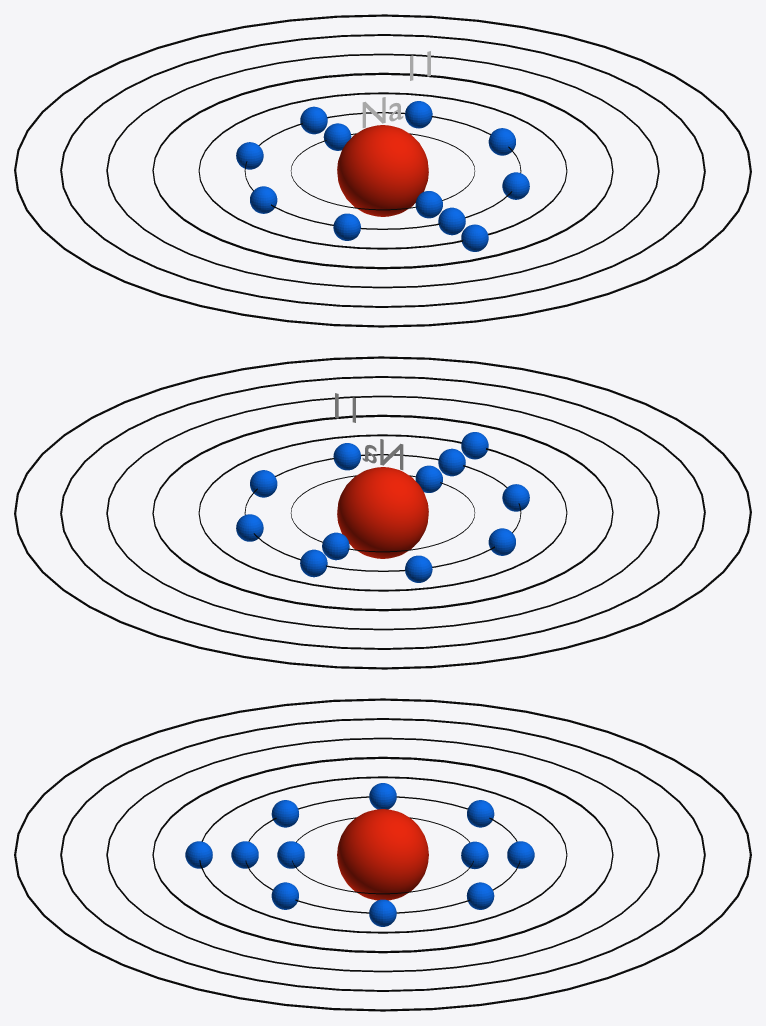
3 views of the same model, one above another, from view 1: azimuth 30°, elevation 25°; view 2: azimuth 150°, elevation 25°; view 3: azimuth 270°, elevation 25° (orthographic).
Visible parts, largest first — view 1: Proton, Na2, n7, n6, n5, n4, n3, Na, n2, Na3; view 2: Proton, Na2, n7, n6, n5, n4, n3, Na, n2, Na3; view 3: Proton, Na2, n7, n6, n5, n4, n3, Na, n2, Na3, n1.
Boxes of the visible parts, box(x1,y1,x2,y2) form: Proton: box(337, 125, 428, 216); Na2: box(236, 101, 529, 240); n7: box(14, 14, 751, 327); n6: box(60, 34, 705, 307); n5: box(106, 53, 659, 288); n4: box(152, 72, 613, 269); n3: box(198, 92, 567, 249); Na: box(323, 123, 442, 218); n2: box(244, 112, 521, 229); Na3: box(461, 224, 488, 251); Proton: box(337, 467, 428, 558); Na2: box(236, 443, 529, 582); n7: box(14, 356, 751, 669); n6: box(60, 376, 705, 649); n5: box(106, 395, 659, 630); n4: box(152, 414, 613, 611); n3: box(198, 434, 567, 591); Na: box(322, 465, 442, 560); n2: box(244, 454, 521, 571); Na3: box(461, 432, 488, 459); Proton: box(337, 809, 428, 900); Na2: box(231, 783, 534, 926); n7: box(14, 698, 751, 1011); n6: box(60, 718, 705, 991); n5: box(106, 737, 659, 972); n4: box(152, 756, 613, 953); n3: box(199, 776, 567, 933); Na: box(277, 841, 488, 869); n2: box(245, 796, 520, 913); Na3: box(185, 841, 212, 868); n1: box(292, 817, 473, 894).
Bounding box in the file's own units: 802 × 180 × 802.
